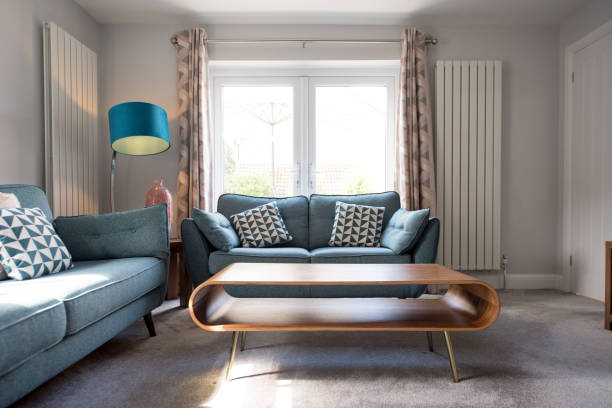floor lamp: (104, 98, 173, 212)
sofa: (0, 180, 174, 408), (178, 189, 441, 300)
table: (187, 259, 502, 384)
